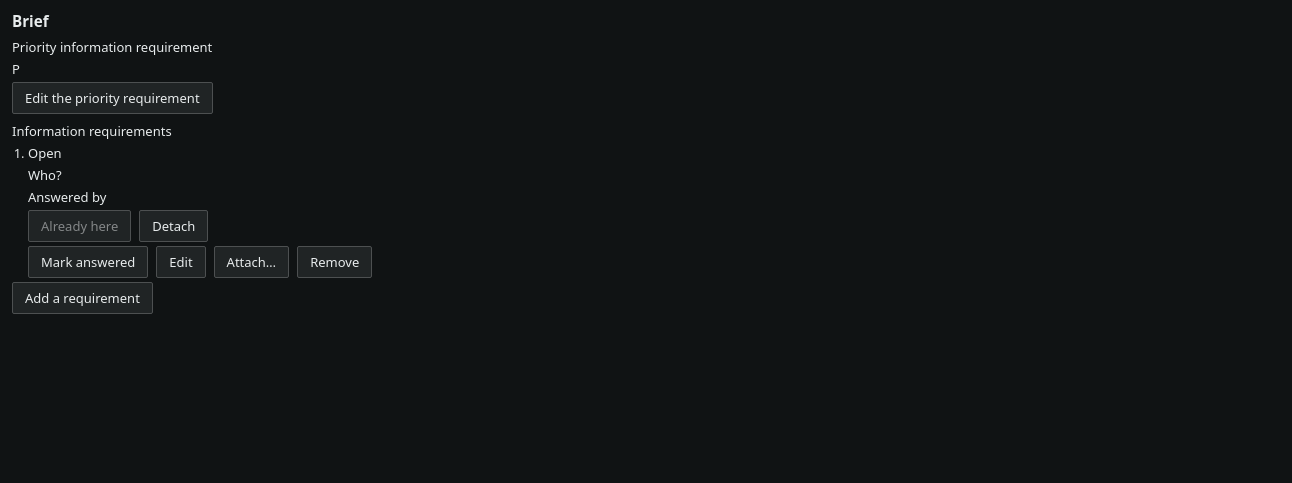
Test case: CaseBrief › lets the Author attach a trend chosen from the case's own saved trends, and offers none already attached
Click the button with aria-label "Attach to requirement 1" at point(251, 262), box left=214, top=246, right=289, bottom=278
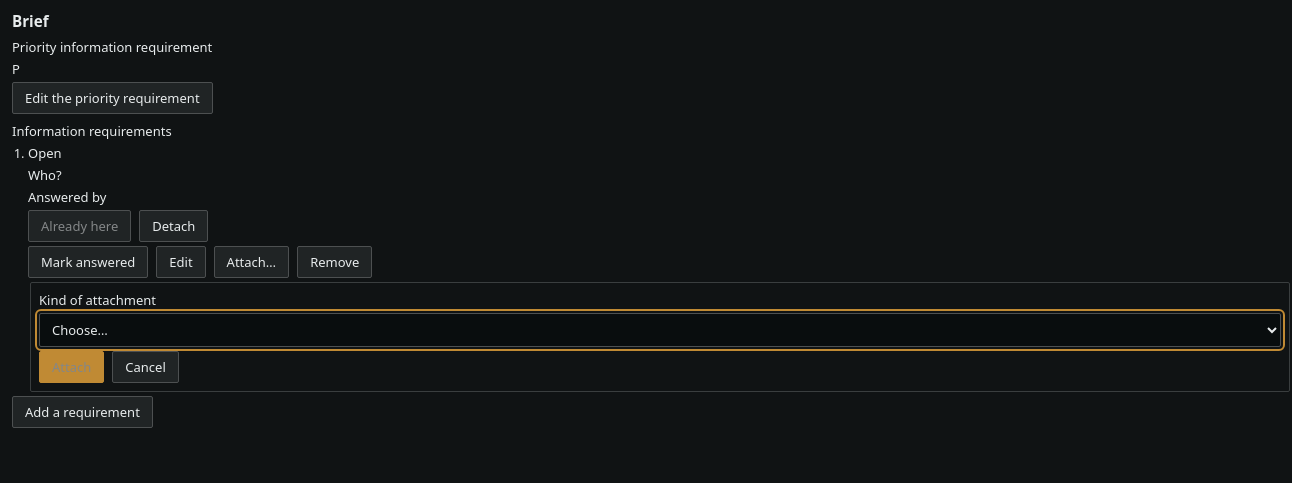
Select "Trend" in the dropdown labelled "Kind of attachment" at point(660, 330), box left=39, top=313, right=1281, bottom=347
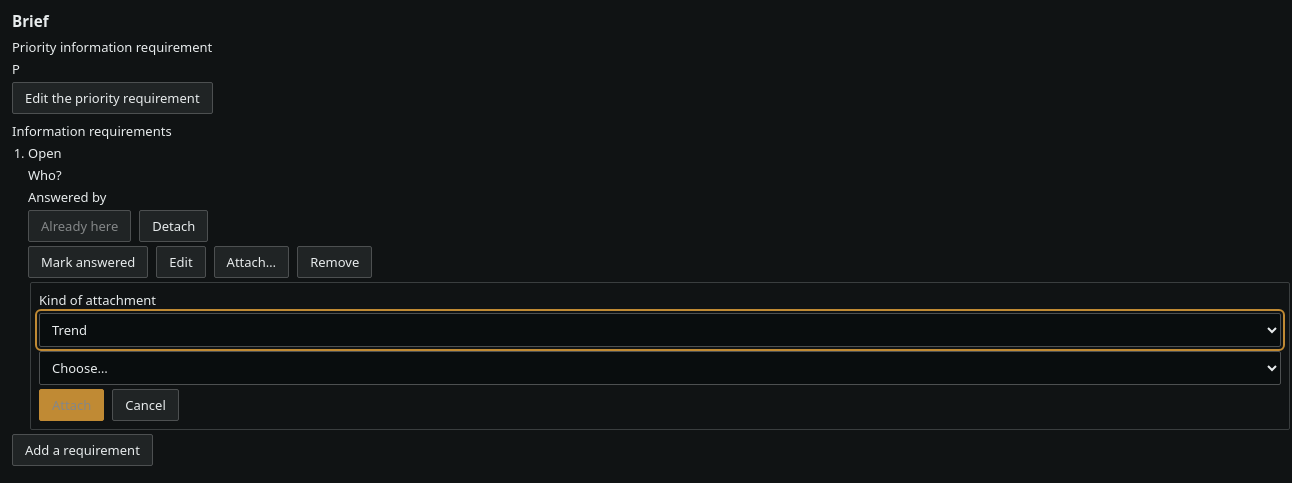
Select "Throw-overs by week" in the dropdown named "What to attach" at point(660, 368), box left=39, top=351, right=1281, bottom=385
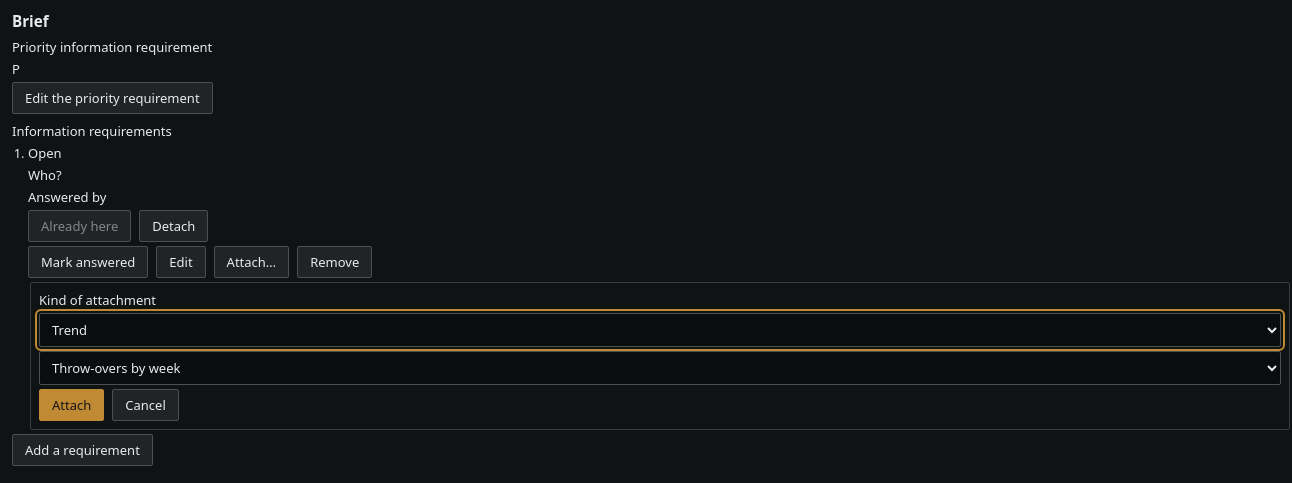
Click the button "Attach" at point(72, 405), box left=39, top=389, right=104, bottom=421
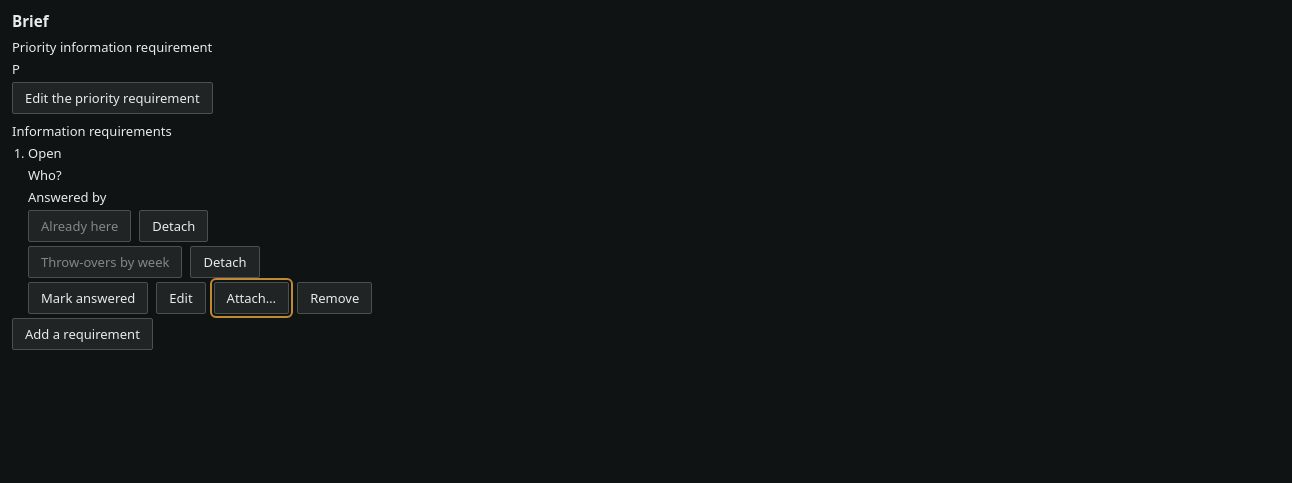
Check: the button with aria-label "Open trend: Throw-overs by week" is shown, box left=28, top=246, right=182, bottom=278
